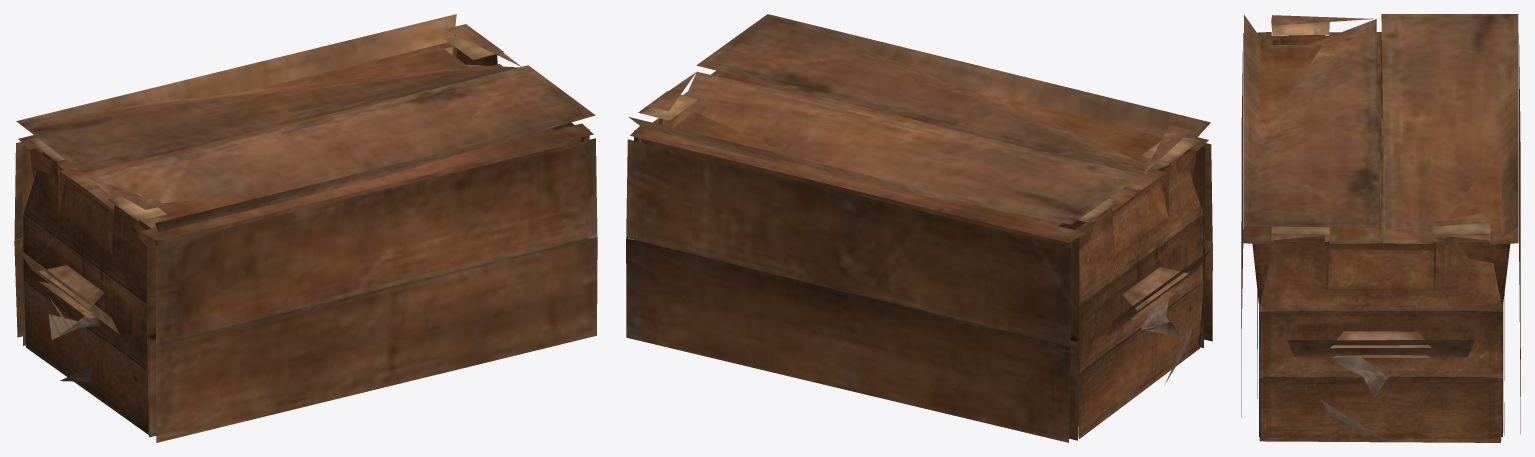
File: ph_wooden_crate_01.glb
3 renders of one model, left to right at view 1: azimuth 30°, elevation 25°; view 2: azimuth 150°, elevation 25°; view 3: azimuth 270°, elevation 25°, orthographic.
Visible parts, largest first — view 1: wooden_crate_01_lid; view 2: wooden_crate_01_lid; view 3: wooden_crate_01_lid.
Part boxes in pixels (bbox=[...]): wooden_crate_01_lid: bbox=[14, 14, 597, 442]; wooden_crate_01_lid: bbox=[626, 14, 1212, 442]; wooden_crate_01_lid: bbox=[1241, 14, 1520, 442].
Bounding box in the file's own units: 0.8137 × 0.3353 × 0.3877.
1 material, 1 textured.
